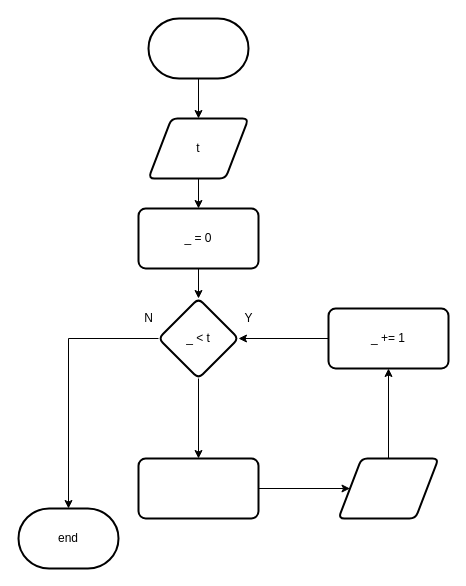
Image size: 466x586. Some labels were removed from this diagram. The centre of each missing label's shape, as x and y in pixels:
"a + b - 3" belongs at [198,488].
"a, b" belongs at [388,488].
"start" belongs at [198,48].
